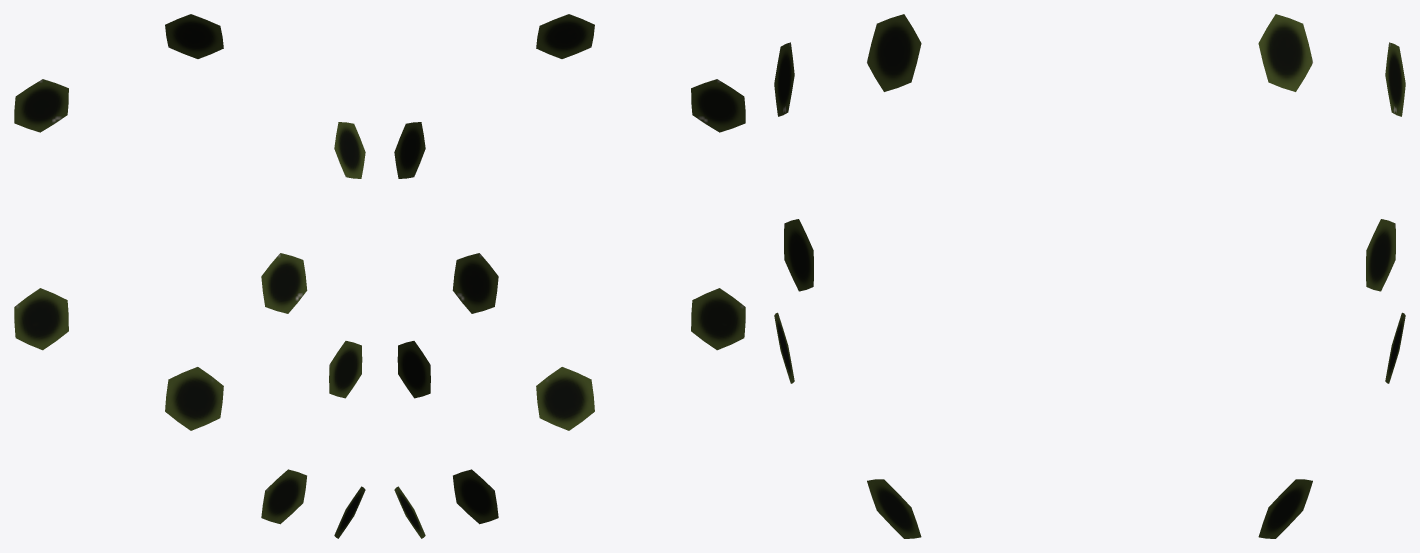
File: Boss_eyes.FBX
3 renders of one model, left to right at view 1: azimuth 30°, elevation 25°; view 2: azimuth 150°, elevation 25°; view 3: azimuth 270°, elevation 25°, orthographic. The views are drawn at different scales.
Visible parts, largest first — view 1: Boss_eye02, Boss_eye04, Boss_eye05, Boss_eye01, Boss_eye03; view 2: Boss_eye02, Boss_eye04, Boss_eye05, Boss_eye01, Boss_eye03; view 3: Boss_eye01, Boss_eye05, Boss_eye03, Boss_eye02, Boss_eye04.
Part boxes in pixels (box(x1,y1,x2,y2)): Boss_eye02: box(14, 79, 307, 313); Boss_eye04: box(14, 288, 306, 524); Boss_eye05: box(165, 367, 365, 538); Boss_eye01: box(165, 14, 365, 178); Boss_eye03: box(329, 341, 362, 398); Boss_eye02: box(452, 79, 745, 313); Boss_eye04: box(453, 288, 745, 524); Boss_eye05: box(394, 367, 594, 538); Boss_eye01: box(394, 14, 594, 178); Boss_eye03: box(397, 341, 430, 398); Boss_eye01: box(867, 14, 1312, 91); Boss_eye05: box(867, 479, 1312, 538); Boss_eye03: box(784, 219, 1395, 291); Boss_eye02: box(774, 42, 1405, 116); Boss_eye04: box(774, 312, 1405, 383).
Bounding box in the file's own units: 173 × 441 × 481.
